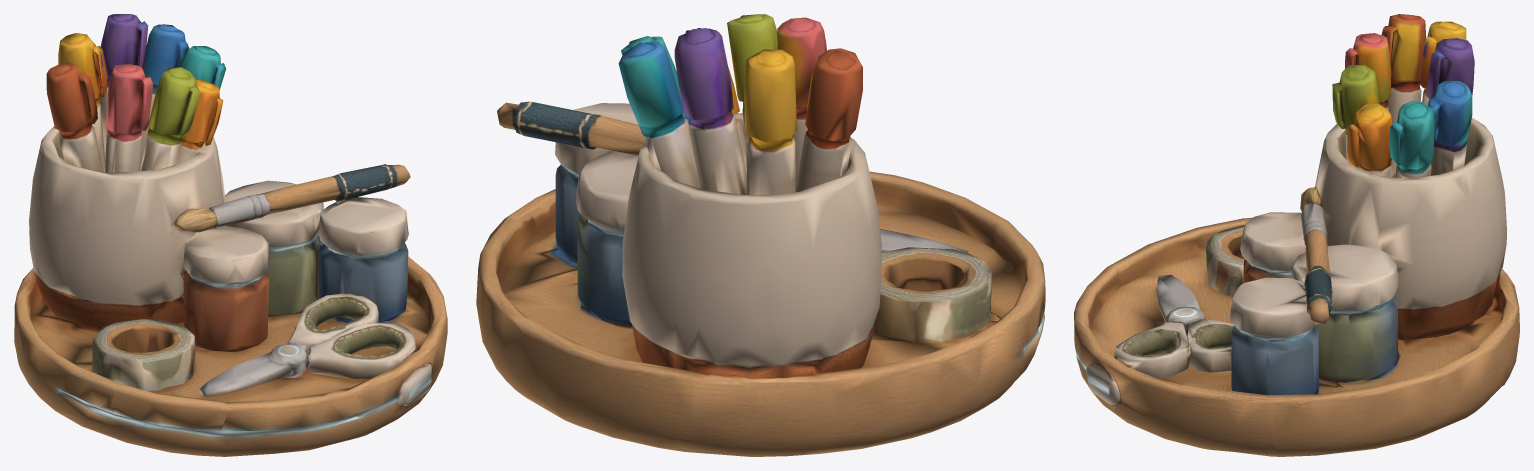
File: art-supplies.high.glb
3 views of the same model, side by side, from view 1: azimuth 30°, elevation 25°; view 2: azimuth 150°, elevation 25°; view 3: azimuth 270°, elevation 25° (orthographic). The views are drawn at different scales.
Parts seen in each view (by area): view 1: tripo_node_44a76097-e6d3-4ae5-a54f-7d31e9ec1bc3; view 2: tripo_node_44a76097-e6d3-4ae5-a54f-7d31e9ec1bc3; view 3: tripo_node_44a76097-e6d3-4ae5-a54f-7d31e9ec1bc3.
Boxes of the visible parts, x1=… form: tripo_node_44a76097-e6d3-4ae5-a54f-7d31e9ec1bc3: x1=14, y1=14, x2=447, y2=456; tripo_node_44a76097-e6d3-4ae5-a54f-7d31e9ec1bc3: x1=476, y1=14, x2=1045, y2=456; tripo_node_44a76097-e6d3-4ae5-a54f-7d31e9ec1bc3: x1=1074, y1=14, x2=1519, y2=456.
Bounding box in the file's own units: 0.42 × 0.3331 × 0.4175.
Materials: 1 (1 with a texture image).
